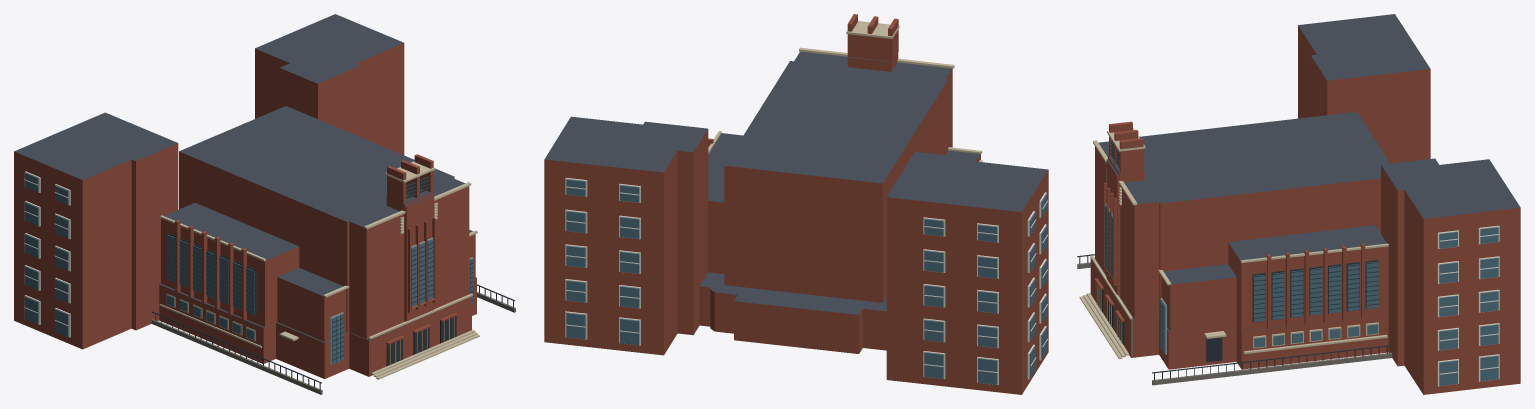
Rendered from jeruzalemkerk.glb.
The picture shows the model from 3 angles, left to right: view 1: azimuth 30°, elevation 25°; view 2: azimuth 150°, elevation 25°; view 3: azimuth 270°, elevation 25°; orthographic projection. The views are drawn at different scales.
Parts seen in each view (by area): view 1: jeruzalemkerk; view 2: jeruzalemkerk; view 3: jeruzalemkerk.
Boxes of the visible parts, x1,y1,x2,y2 form: jeruzalemkerk: [14, 14, 515, 394]; jeruzalemkerk: [544, 14, 1048, 394]; jeruzalemkerk: [1077, 14, 1520, 394].
Bounding box in the file's own units: 40.83 × 17.98 × 37.34.
